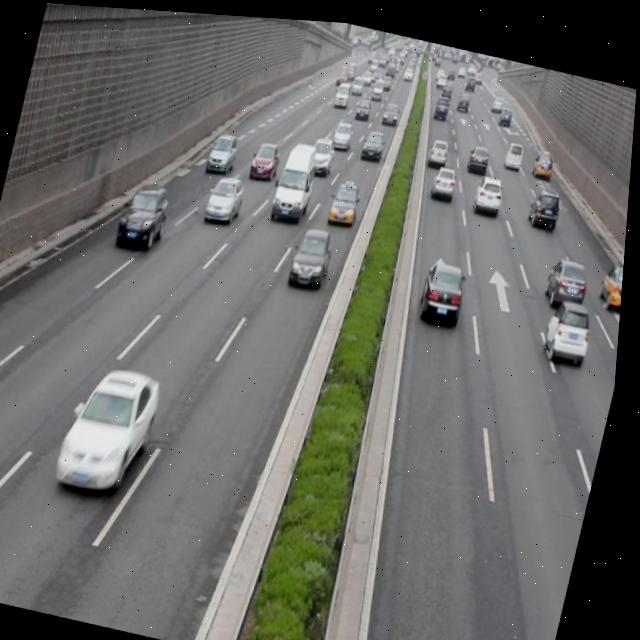car: (60, 357, 170, 498), (119, 176, 178, 250), (544, 285, 601, 357), (419, 249, 473, 322), (544, 243, 597, 307), (290, 218, 339, 285), (207, 167, 250, 222), (528, 176, 567, 224), (328, 173, 364, 222), (207, 127, 243, 173), (599, 246, 628, 303), (250, 134, 286, 177), (474, 163, 508, 208), (307, 129, 339, 174), (423, 629, 545, 640), (430, 156, 461, 196), (426, 129, 454, 168), (360, 121, 388, 159), (466, 136, 493, 170), (331, 112, 356, 146)
truck: (272, 134, 323, 219)
